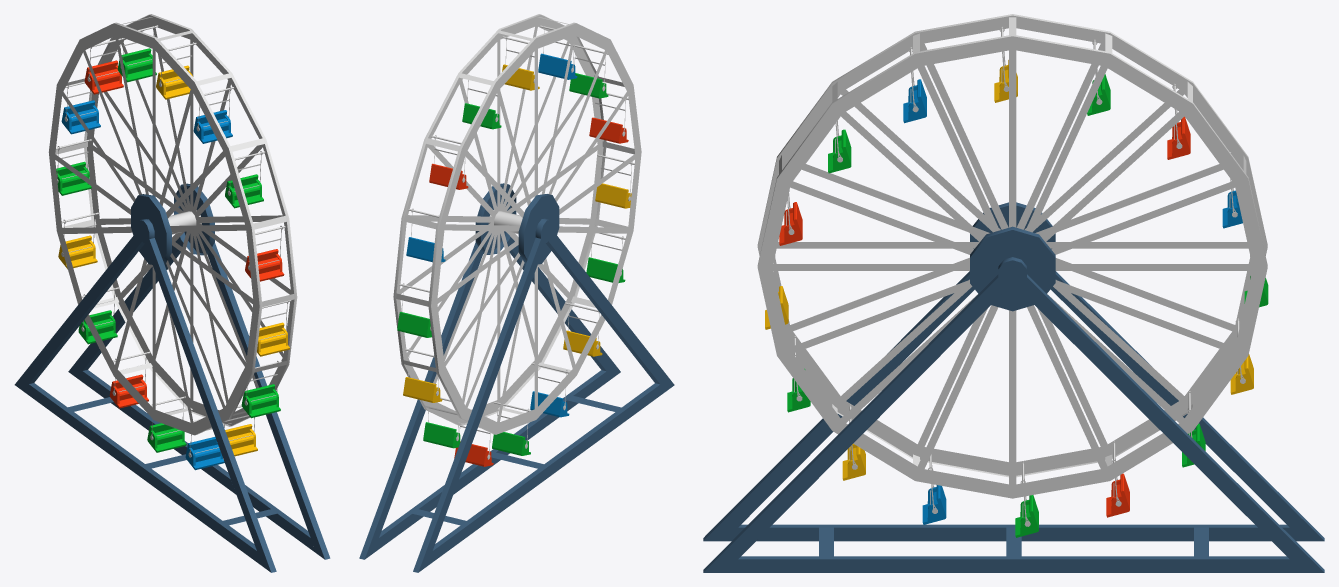
Rendered from Carousel.fbx.
The picture shows the model from 3 angles, left to right: view 1: azimuth 30°, elevation 25°; view 2: azimuth 150°, elevation 25°; view 3: azimuth 270°, elevation 25°; orthographic projection. The views are drawn at different scales.
Parts seen in each view (by area): view 1: metal, base, chair_15, chair, chair_9, chair_7, chair_8, chair_2, chair_14, chair_5, chair_6, chair_4 (+6 smaller); view 2: metal, base, chair_5, chair_4, chair_2, chair_14, chair_11, chair_6, chair_13, chair_12, chair_15, chair_7 (+6 smaller); view 3: metal, base.
Boxes of the visible parts, x1,y1,x2,y2 form: metal: (48, 14, 297, 435); base: (14, 183, 330, 572); chair_15: (241, 384, 280, 418); chair: (185, 437, 224, 470); chair_9: (117, 48, 156, 82); chair_7: (61, 100, 100, 134); chair_8: (84, 60, 123, 94); chair_2: (147, 423, 186, 452); chair_14: (257, 322, 289, 356); chair_5: (58, 235, 97, 269); chair_6: (56, 161, 91, 195); chair_4: (78, 310, 117, 344); metal: (393, 14, 641, 434); base: (359, 183, 674, 572); chair_5: (403, 377, 442, 402); chair_4: (423, 422, 460, 448); chair_2: (492, 432, 530, 455); chair_14: (595, 183, 631, 208); chair_11: (538, 53, 577, 79); chair_6: (397, 312, 431, 337); chair_13: (589, 117, 628, 143); chair_12: (569, 73, 608, 98); chair_15: (586, 257, 625, 282); chair_7: (406, 237, 445, 262); metal: (757, 14, 1267, 498); base: (703, 202, 1324, 572).
Bounding box in the file's own units: 5.5 × 39 × 41.41.
